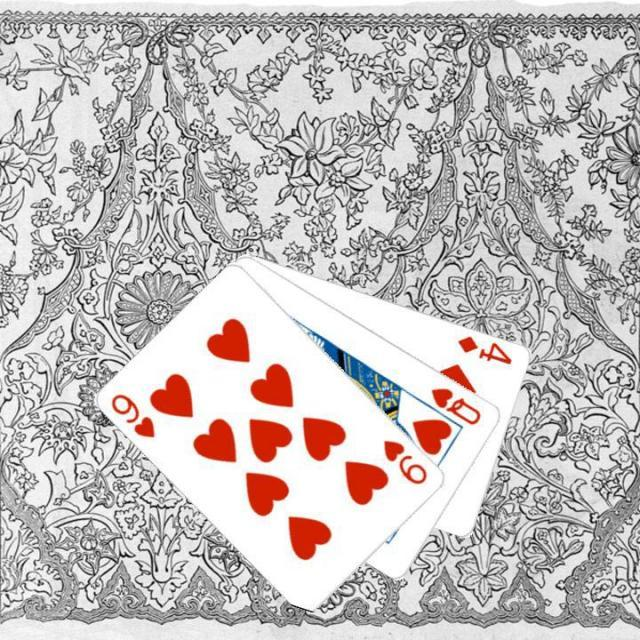4D: (454, 331, 514, 366)
9H: (380, 436, 430, 486), (108, 390, 158, 440)
QH: (428, 383, 483, 427)
